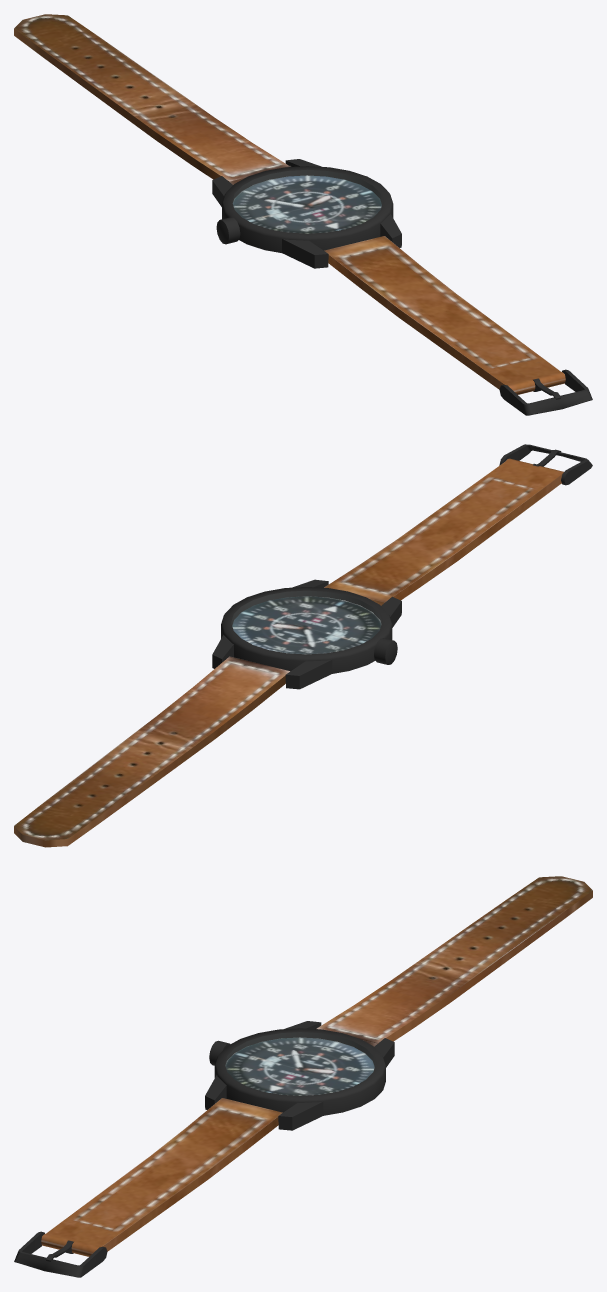
Rendered from montre.obj.
The picture shows the model from 3 angles, top to bottom: view 1: azimuth 30°, elevation 25°; view 2: azimuth 150°, elevation 25°; view 3: azimuth 330°, elevation 25°; orthographic projection.
Visible parts, largest first — view 1: belt_Plane.001, glass_Circle.001, sphere_Circle, buckle_Cube; view 2: belt_Plane.001, glass_Circle.001, sphere_Circle, buckle_Cube; view 3: belt_Plane.001, glass_Circle.001, sphere_Circle, buckle_Cube.
Part boxes in pixels (x1,y1,x2,y2): belt_Plane.001: (14,14,565,394); glass_Circle.001: (233,170,382,232); sphere_Circle: (212,159,401,268); buckle_Cube: (499,369,592,415); belt_Plane.001: (14,458,563,847); glass_Circle.001: (232,591,381,653); sphere_Circle: (212,579,401,689); buckle_Cube: (499,444,592,485); belt_Plane.001: (41,876,592,1256); glass_Circle.001: (225,1032,374,1095); sphere_Circle: (205,1021,394,1130); buckle_Cube: (14,1231,107,1277).
Size of the model in its own units: 4.27 by 0.6078 by 24.34.
Materials: 5 (3 with a texture image).
